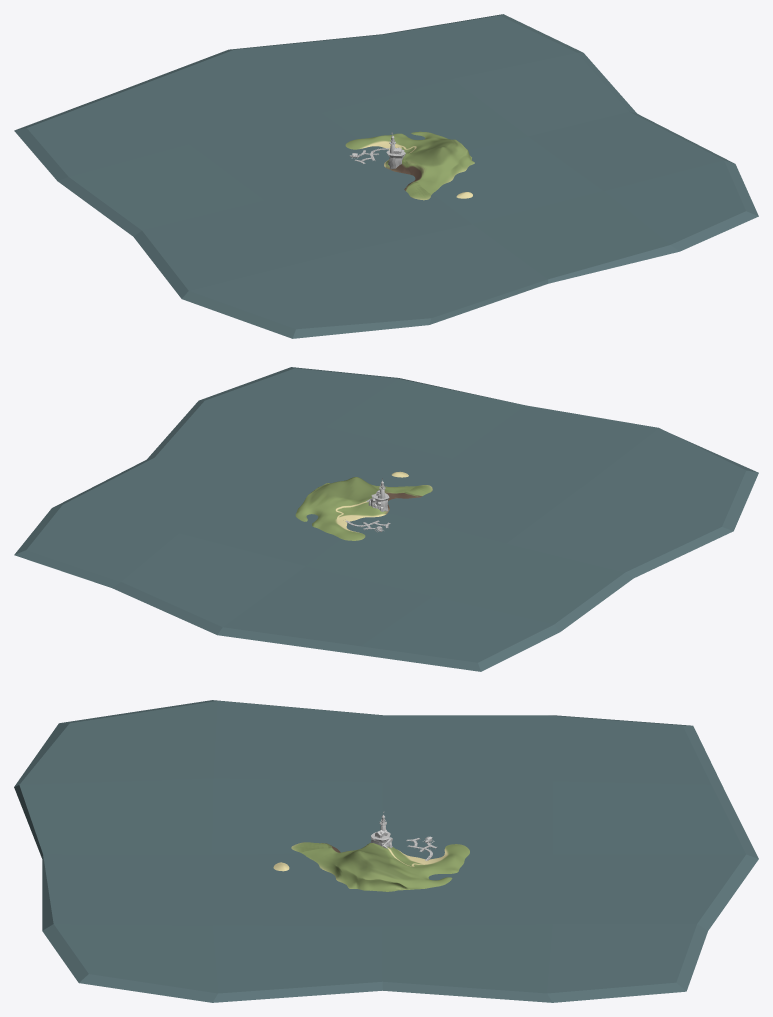
The model's file is scene_tutorialfbx.fbx.
3 views of the same model, one above another, from view 1: azimuth 30°, elevation 25°; view 2: azimuth 150°, elevation 25°; view 3: azimuth 270°, elevation 25° (orthographic). The views are drawn at different scales.
Visible parts, largest first — view 1: Cube.036, island; view 2: Cube.036, island; view 3: Cube.036, island.
Part boxes in pixels (x1=…): Cube.036: x1=14, y1=14, x2=758, y2=338; island: x1=345, y1=131, x2=474, y2=200; Cube.036: x1=14, y1=367, x2=758, y2=671; island: x1=295, y1=471, x2=432, y2=540; Cube.036: x1=14, y1=700, x2=758, y2=1002; island: x1=273, y1=842, x2=469, y2=891.
Size of the model in its own units: 50153 by 4816 by 52137.
